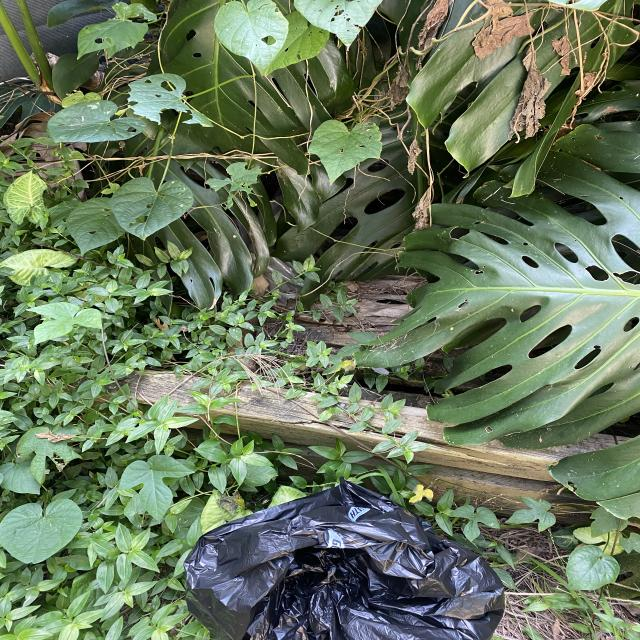bag: (180, 476, 510, 640)
